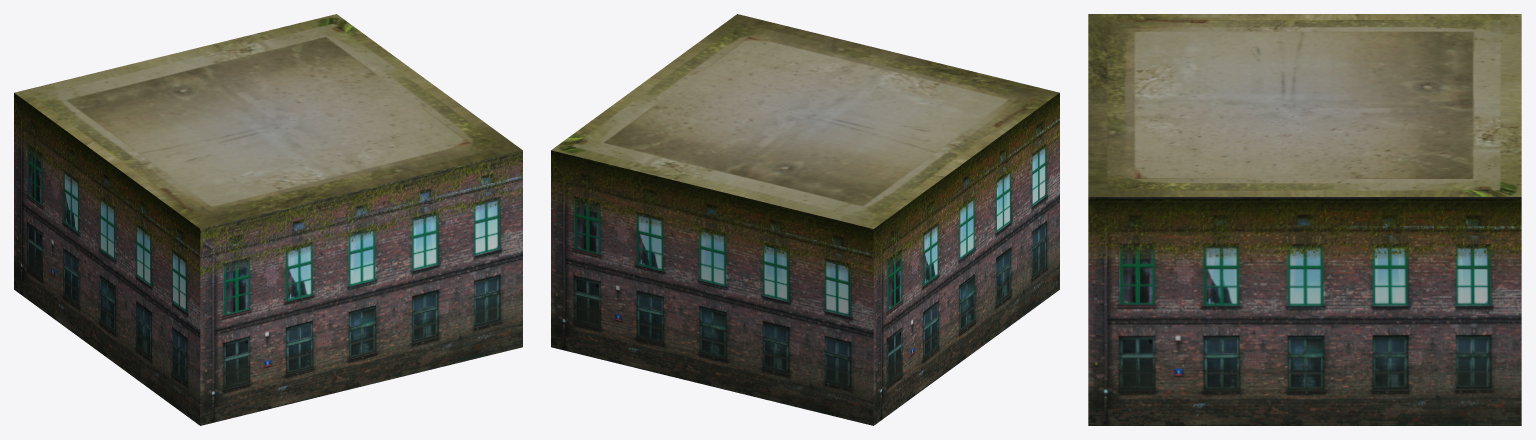
File: LOD_Building_4.fbx
3 views of the same model, side by side, from view 1: azimuth 30°, elevation 25°; view 2: azimuth 150°, elevation 25°; view 3: azimuth 270°, elevation 25° (orthographic). The views are drawn at different scales.
Parts seen in each view (by area): view 1: Cube.002; view 2: Cube.002; view 3: Cube.002.
Part boxes in pixels (x1,y1,x2,y2): Cube.002: (14,14,522,425); Cube.002: (551,14,1059,425); Cube.002: (1088,14,1521,425).
Size of the model in its own units: 600 by 350 by 600.
